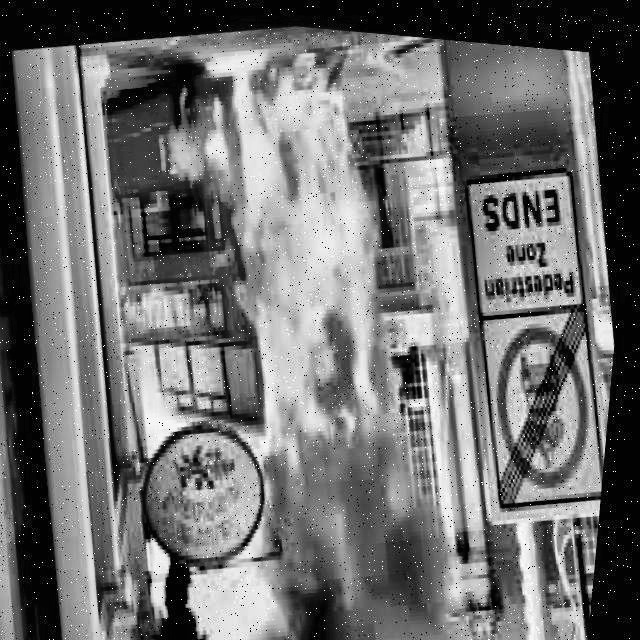Fire: (177, 26, 426, 461)
Smoke: (248, 410, 507, 640)
